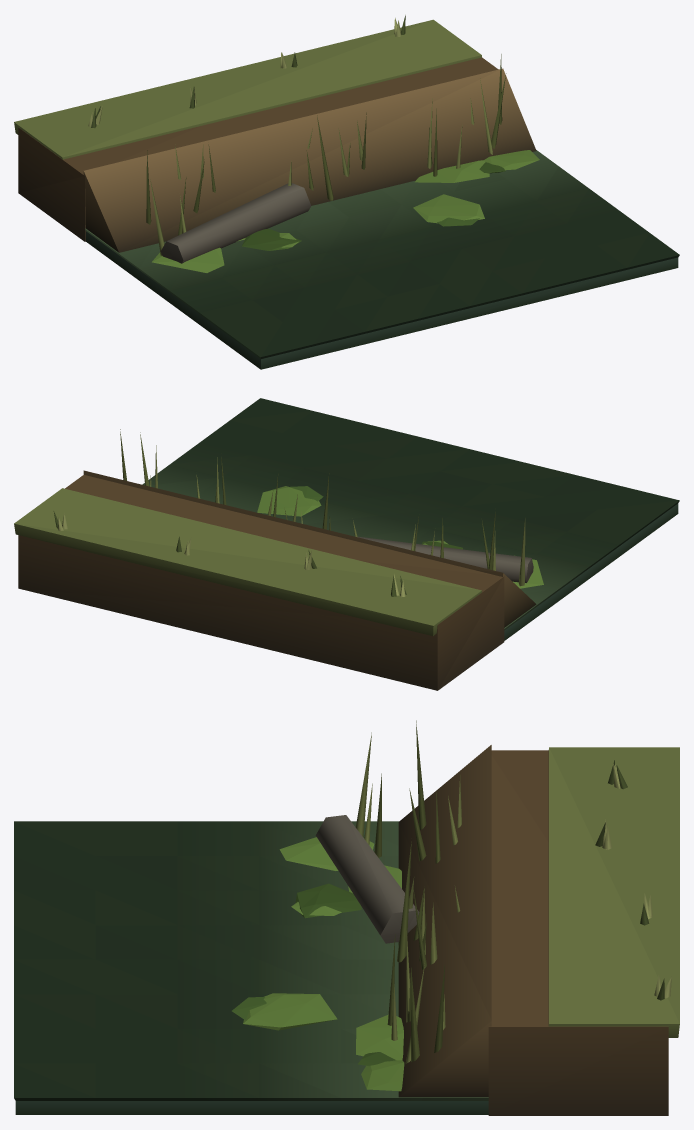
File: shore-straight-bayou-tile.glb
The picture shows the model from 3 angles, top to bottom: view 1: azimuth 30°, elevation 25°; view 2: azimuth 150°, elevation 25°; view 3: azimuth 270°, elevation 25°; orthographic projection. The views are drawn at different scales.
Visible parts, largest first — view 1: shore_straight_bayou_tile; view 2: shore_straight_bayou_tile; view 3: shore_straight_bayou_tile.
Boxes of the visible parts, x1,y1,x2,y2 form: shore_straight_bayou_tile: (14,15,679,369); shore_straight_bayou_tile: (14,398,679,690); shore_straight_bayou_tile: (14,720,679,1115).
Bounding box in the file's own units: 4 × 0.9666 × 4.07.
